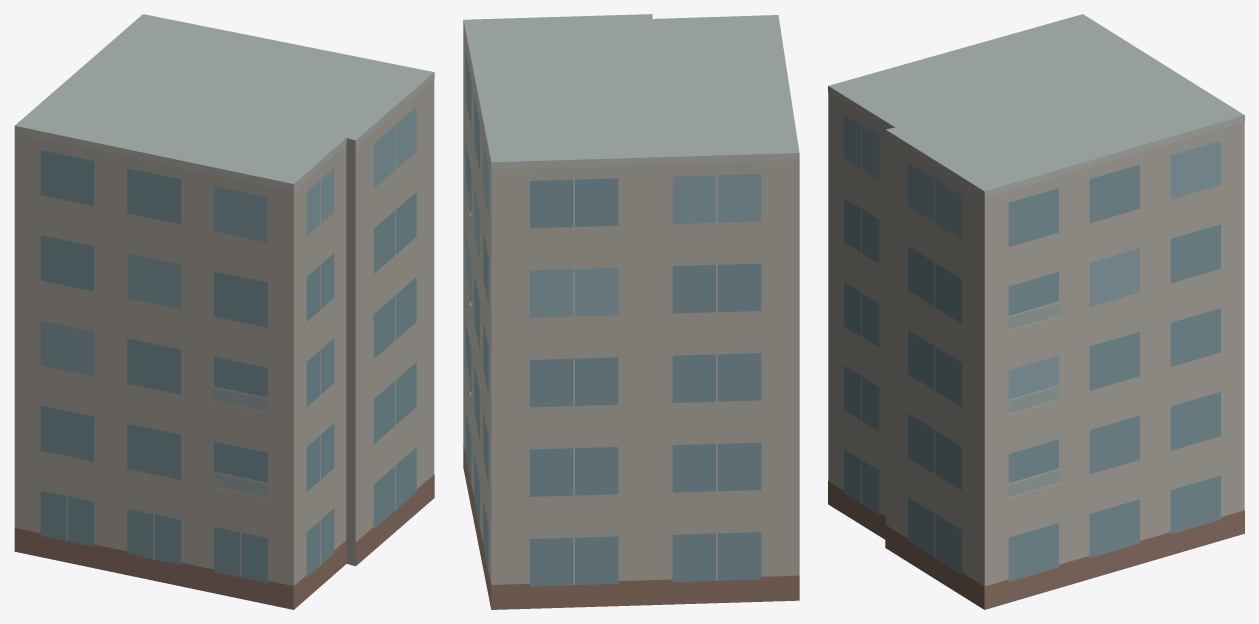
The model's file is survey-upis-32982269.glb.
The picture shows the model from 3 angles, left to right: view 1: azimuth 30°, elevation 25°; view 2: azimuth 150°, elevation 25°; view 3: azimuth 270°, elevation 25°; orthographic projection. The views are drawn at different scales.
Visible parts, largest first — view 1: survey-upis-32982269.tmp; view 2: survey-upis-32982269.tmp; view 3: survey-upis-32982269.tmp.
Part boxes in pixels (box(x1,y1,x2,y2)): survey-upis-32982269.tmp: box(14, 14, 434, 609); survey-upis-32982269.tmp: box(463, 14, 799, 609); survey-upis-32982269.tmp: box(828, 14, 1244, 609).
Size of the model in its own units: 13.92 by 15.3 by 13.81.
